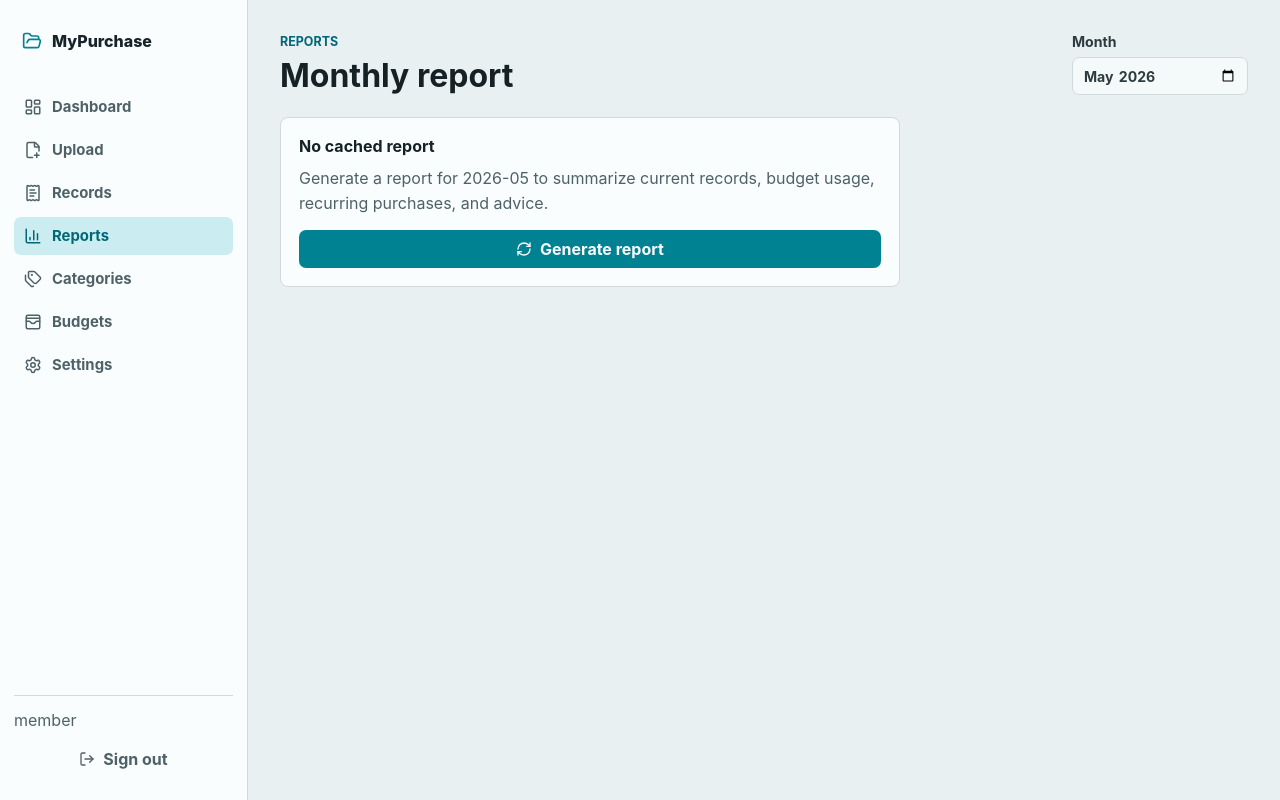
Test: monthly report page › generated report uses the returned report body, not a stale local placeholder
Check: the heading "No cached report" is shown, box [299, 136, 435, 156]
What coordinates should you click on to do the following:
click the button "Generate report"
I would click on:
 (590, 249)
Its box is [299, 230, 881, 268].
(page scrolled)
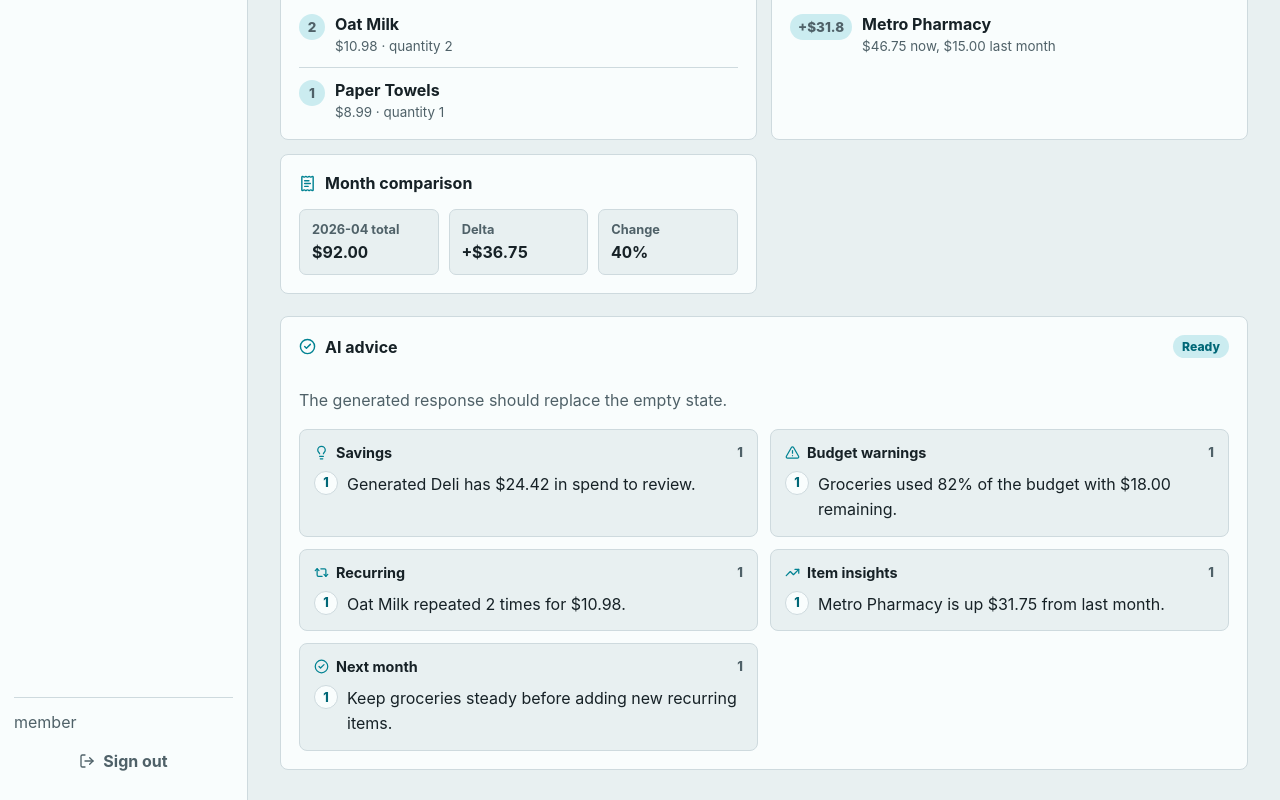
Check: the text "The generated response should replace the empty state." is shown, box [299, 390, 727, 410]
